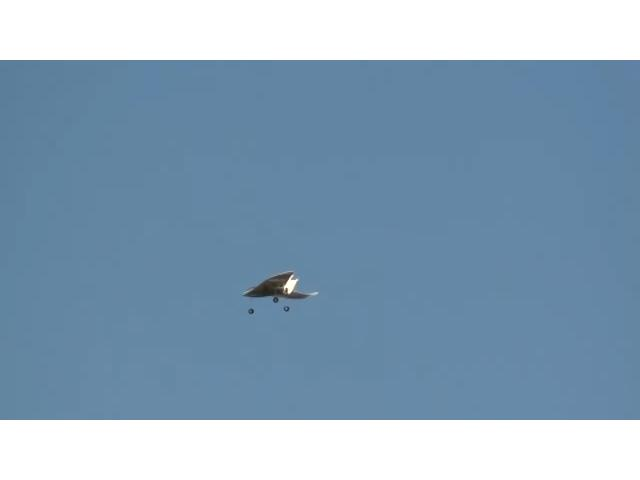Anti-Drone: (242, 271, 318, 301)
